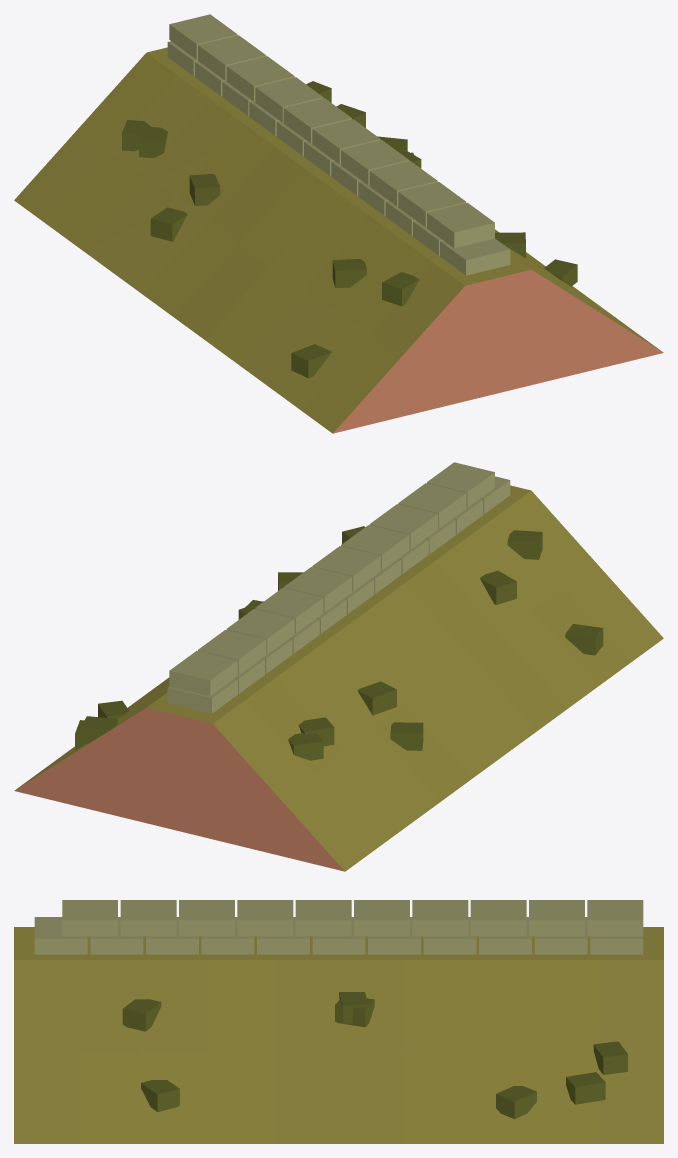
Rendered from SM_TaludDeposito_v1_Sacos_LOD0.fbx.
The picture shows the model from 3 angles, top to bottom: view 1: azimuth 30°, elevation 25°; view 2: azimuth 150°, elevation 25°; view 3: azimuth 270°, elevation 25°; orthographic projection.
Parts seen in each view (by area): view 1: SM_bloques.talud_deposito_v1_LOD0; view 2: SM_bloques.talud_deposito_v1_LOD0; view 3: SM_bloques.talud_deposito_v1_LOD0.
Part boxes in pixels (x1,y1,x2,y2): SM_bloques.talud_deposito_v1_LOD0: (14,14,663,433); SM_bloques.talud_deposito_v1_LOD0: (14,462,663,871); SM_bloques.talud_deposito_v1_LOD0: (14,900,663,1143).
Size of the model in its own units: 6 by 2.57 by 10.
